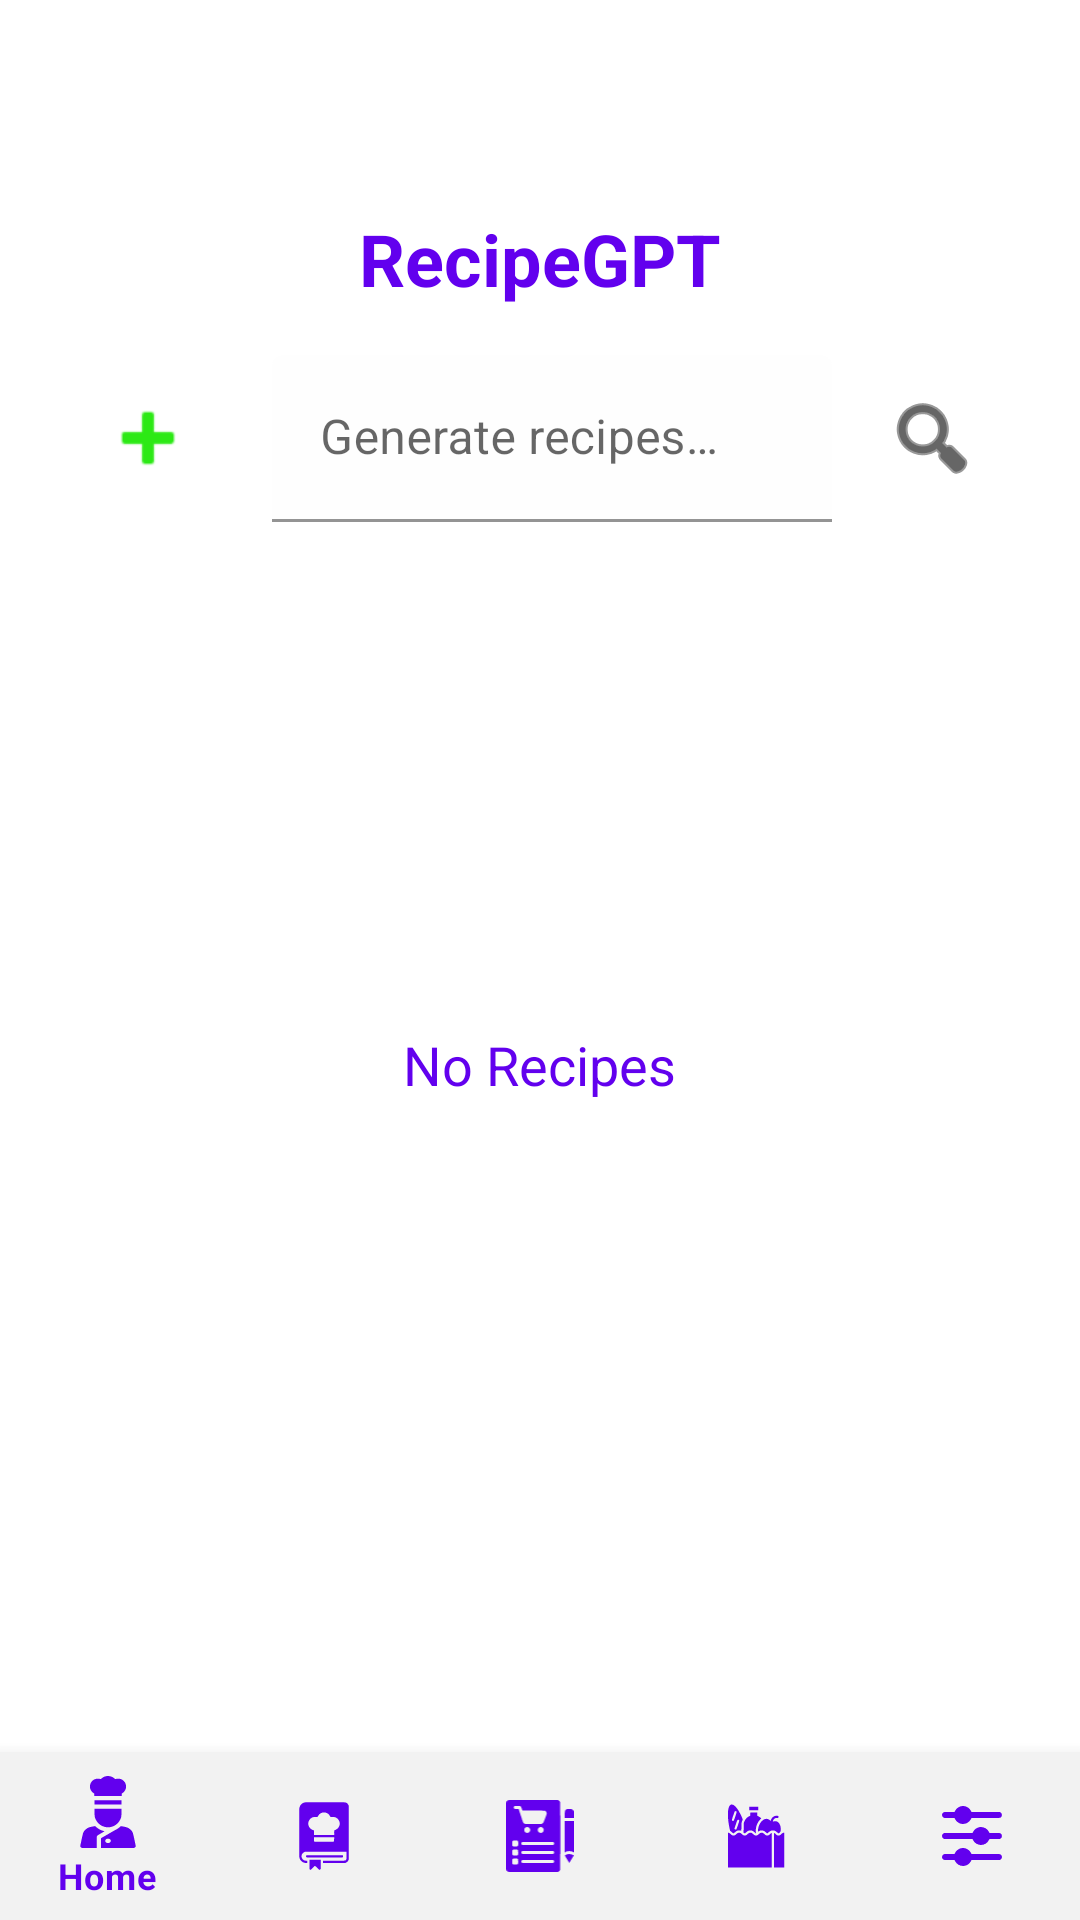

Screen size 1080×1920. Icon name, then its center in pixels as [x,y]:
add: [148,438]
Search Icon: [932,438]
